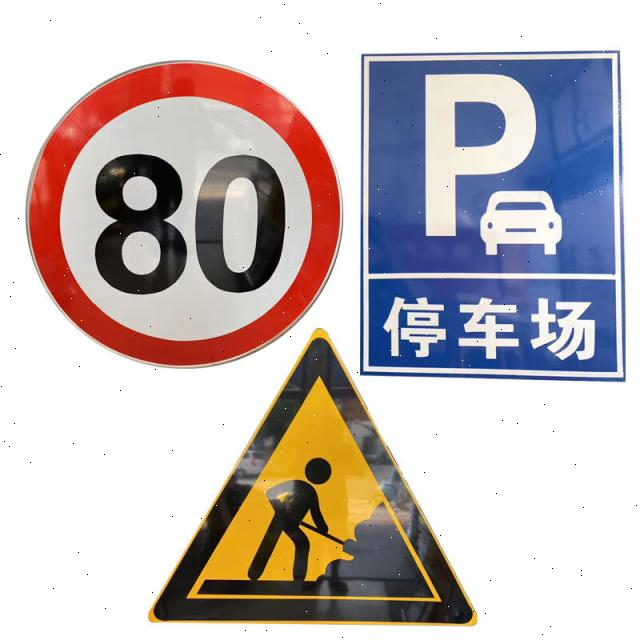speed limit 80: (22, 61, 344, 368)
